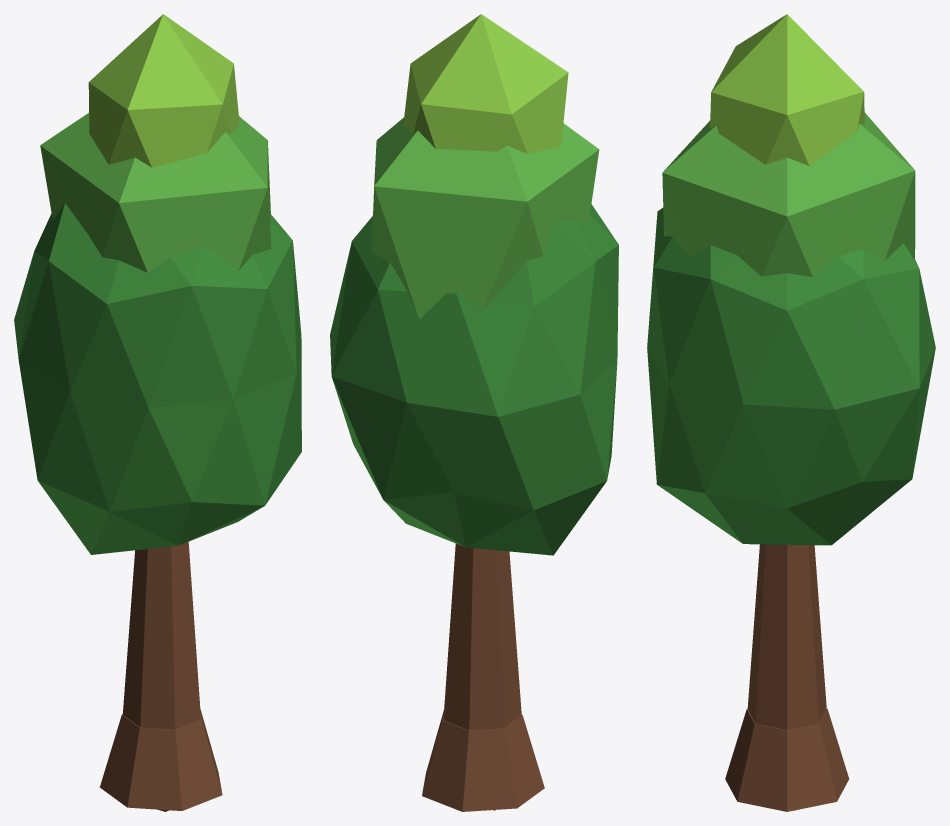
Rendered from Tree_Slim.fbx.
3 renders of one model, left to right at view 1: azimuth 30°, elevation 25°; view 2: azimuth 150°, elevation 25°; view 3: azimuth 270°, elevation 25°, orthographic.
Parts seen in each view (by area): view 1: Tree_Slim; view 2: Tree_Slim; view 3: Tree_Slim.
Part boxes in pixels (x1,y1,x2,y2): Tree_Slim: (14, 14, 301, 811); Tree_Slim: (330, 14, 618, 811); Tree_Slim: (647, 14, 935, 811).
Size of the model in its own units: 1.85 by 5.5 by 1.83.
